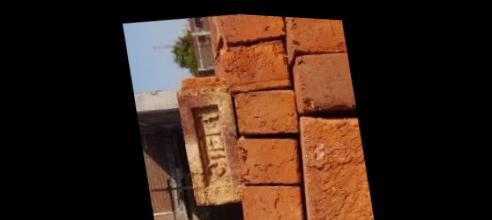brick: (286, 108, 375, 220), (176, 87, 244, 207), (218, 35, 290, 92), (295, 50, 355, 110), (234, 85, 300, 139), (237, 132, 299, 189), (239, 179, 304, 220), (288, 17, 347, 58), (217, 13, 287, 46)
